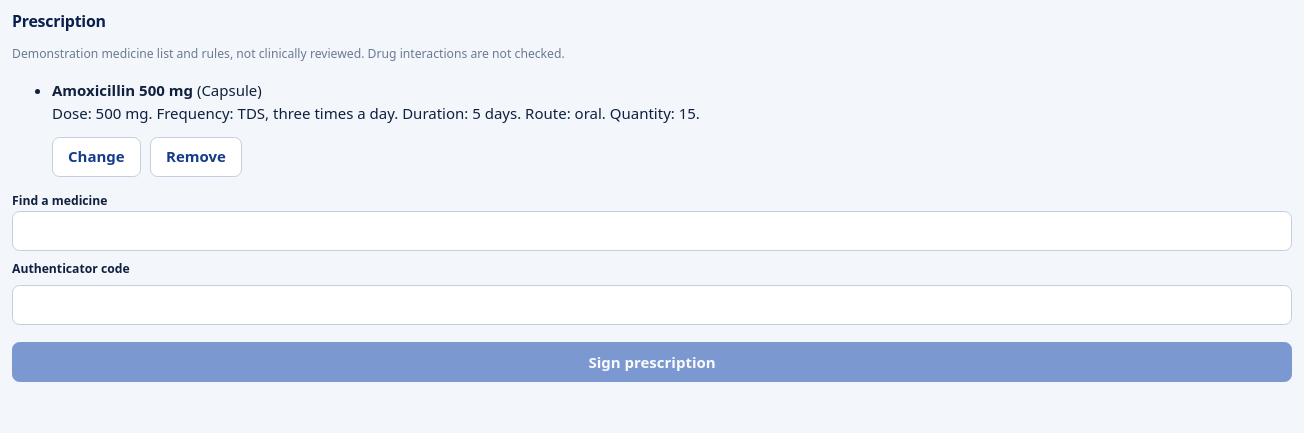
SafetyAlerts in the prescription panel › shows why signing was refused and clears the code
The image size is (1304, 433).
In the field labelled "Authenticator code": coordinates (652, 305) [12, 285, 1292, 325], type "000000"
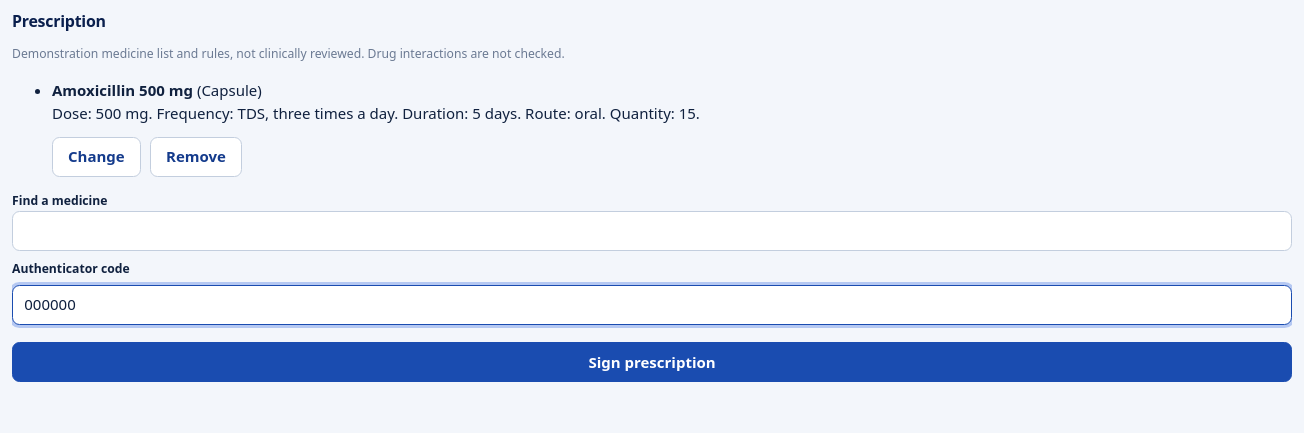
Click the button "Sign prescription": coordinates (652, 362) [12, 342, 1292, 382]
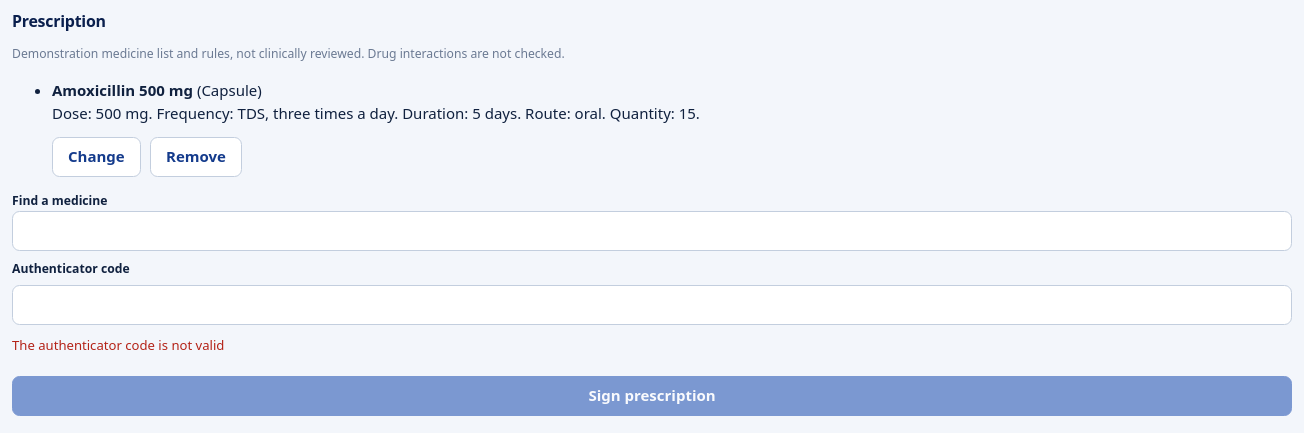
Now the message shows "code is not valid", box [12, 336, 224, 354]
Now the field labelled "Authenticator code" is empty, box [12, 285, 1292, 325]
